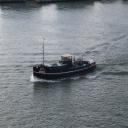tugboat: (33, 53, 98, 83)
